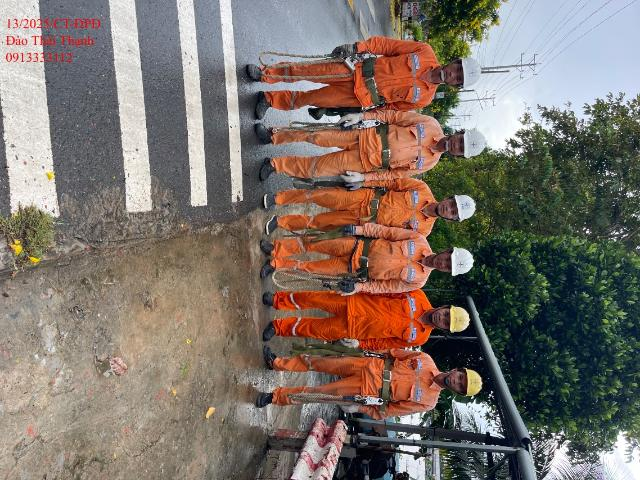gloves: (336, 111, 367, 127), (331, 42, 360, 59), (338, 332, 360, 352), (337, 402, 362, 416), (337, 277, 354, 296), (342, 181, 364, 192), (340, 172, 364, 182), (340, 223, 356, 237)
harness: (359, 49, 393, 114), (375, 117, 397, 172), (356, 234, 375, 282), (379, 352, 392, 418), (362, 188, 385, 225)
helmet: (447, 50, 494, 91), (459, 122, 492, 165), (449, 188, 482, 224), (442, 298, 474, 332), (445, 247, 474, 280), (461, 363, 484, 400)
shoes: (242, 60, 268, 87), (251, 121, 276, 147), (251, 258, 282, 277), (259, 314, 279, 342), (262, 343, 281, 372), (259, 214, 285, 234), (261, 284, 281, 310), (256, 158, 277, 181), (257, 88, 272, 119), (255, 389, 280, 407), (261, 188, 279, 212), (256, 237, 277, 257)
